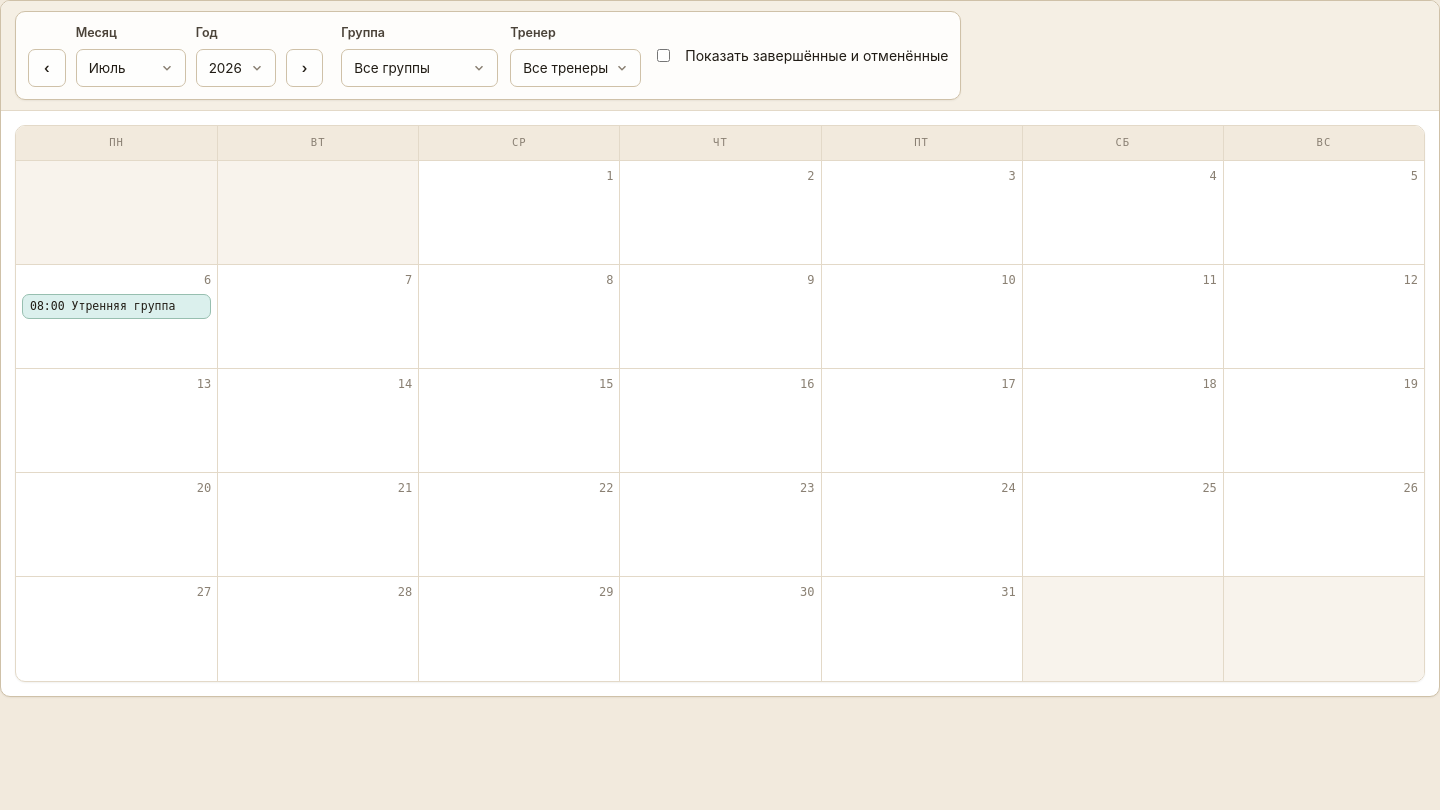
Scenario: TrainingsCalendar › still offers the delete action for an already-cancelled training (now deletable)
Click the button with aria-label "2026-07-06 08:00–09:30" at (117, 306), box [22,294,211,319]
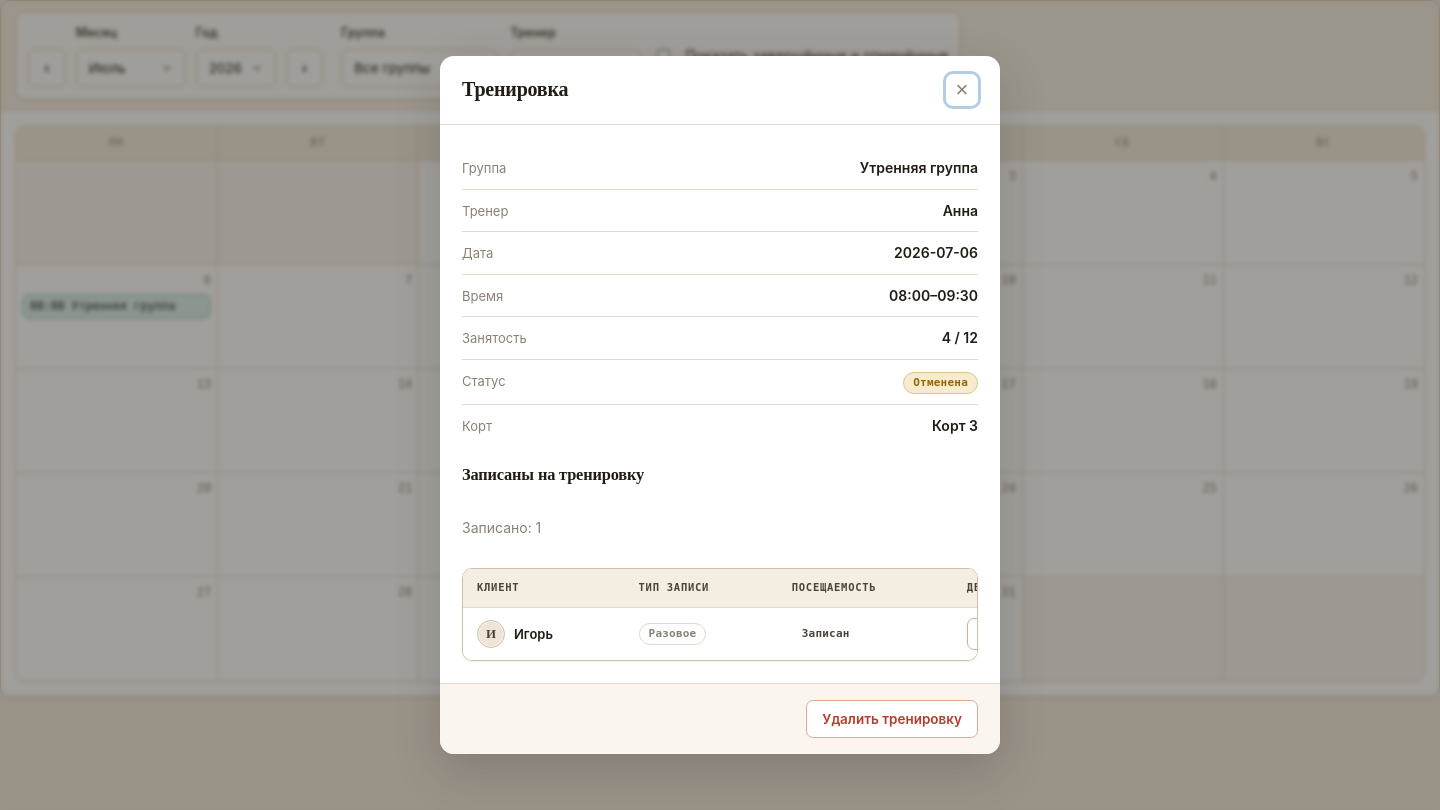
Expected: the button "Удалить тренировку" is shown, [806,700,978,738]
